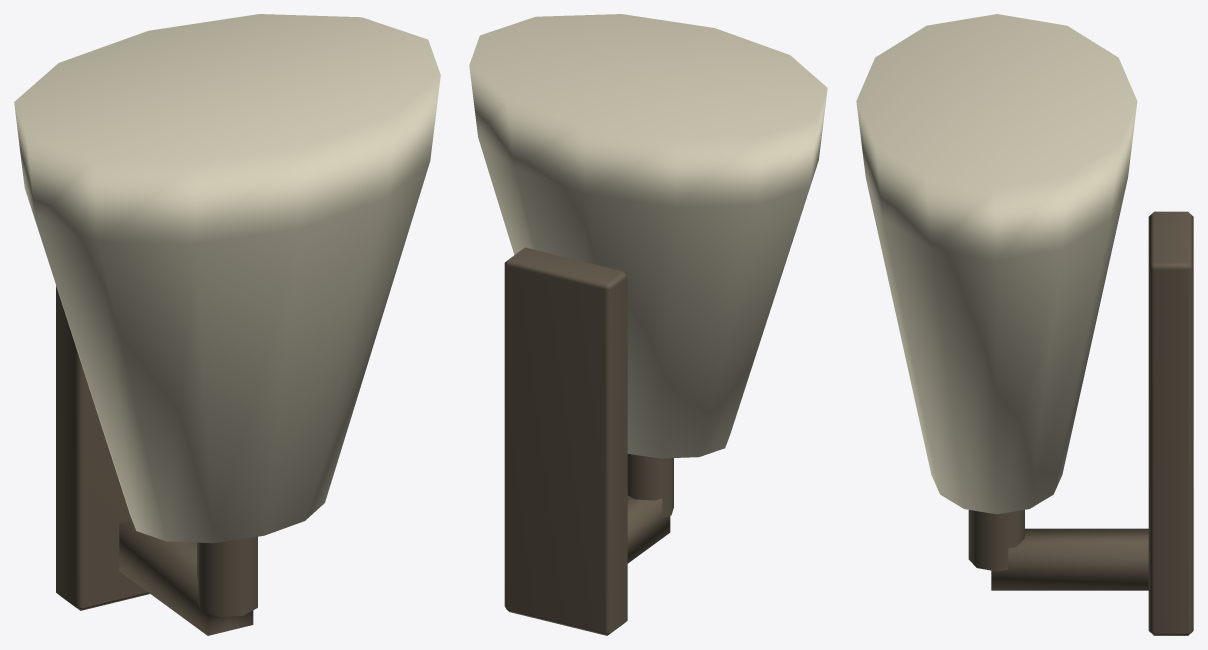
Rendered from Diner_Wall_Light.fbx.
3 views of the same model, side by side, from view 1: azimuth 30°, elevation 25°; view 2: azimuth 150°, elevation 25°; view 3: azimuth 270°, elevation 25° (orthographic). The views are drawn at different scales.
Visible parts, largest first — view 1: Diner_Wall_Light; view 2: Diner_Wall_Light; view 3: Diner_Wall_Light.
Boxes of the visible parts, box(x1,y1,x2,y2) form: Diner_Wall_Light: box(14, 14, 440, 635); Diner_Wall_Light: box(469, 14, 827, 635); Diner_Wall_Light: box(856, 14, 1193, 635).
Size of the model in its own units: 0.22 by 0.3 by 0.18.
